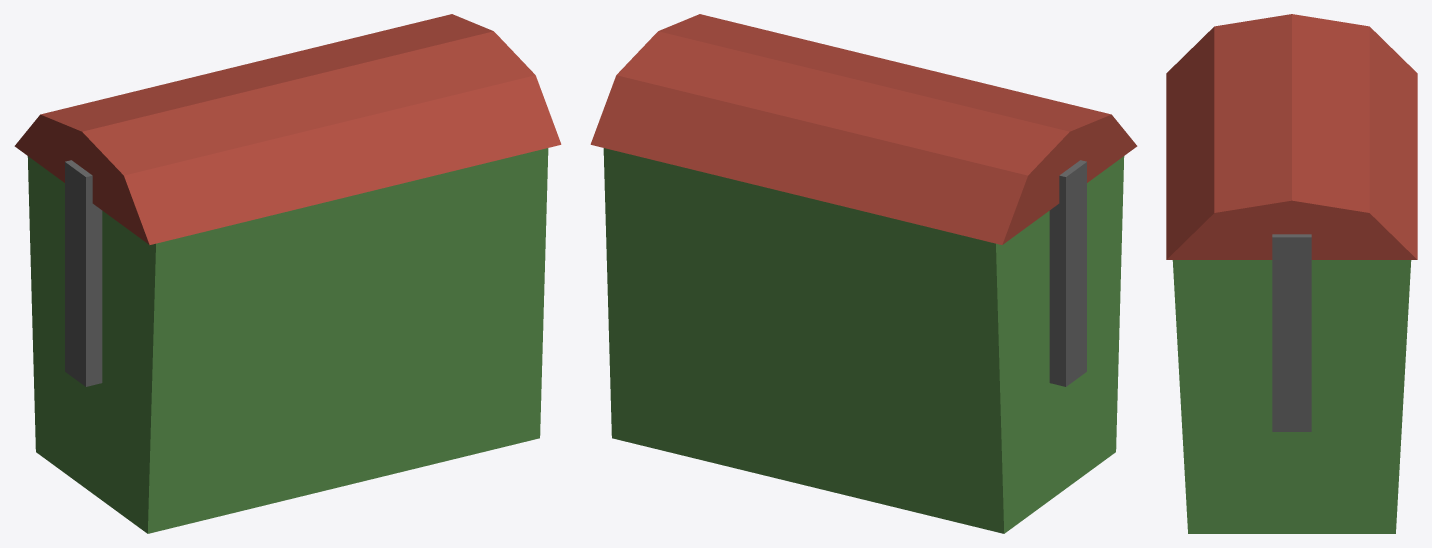
The model's file is trash_003.fbx.
3 renders of one model, left to right at view 1: azimuth 30°, elevation 25°; view 2: azimuth 150°, elevation 25°; view 3: azimuth 270°, elevation 25°, orthographic. The views are drawn at different scales.
Parts seen in each view (by area): view 1: trash_003; view 2: trash_003; view 3: trash_003.
Boxes of the visible parts, <box> form: trash_003: <box>14,14,561,533</box>; trash_003: <box>590,14,1137,533</box>; trash_003: <box>1166,14,1417,533</box>.
Bounding box in the file's own units: 151 × 123 × 83.13.
